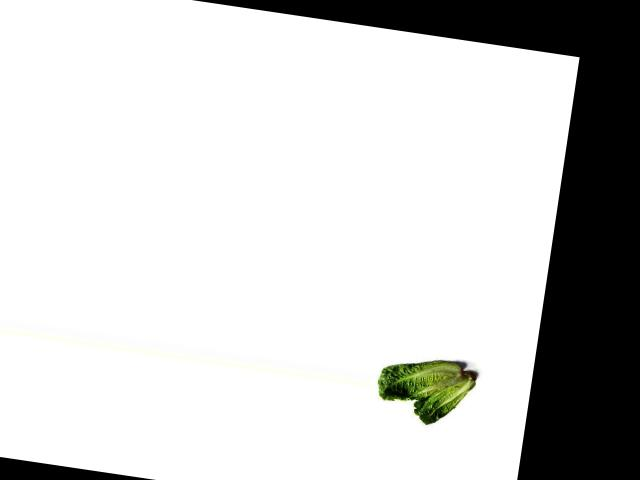lettuce: (411, 362, 481, 431)
